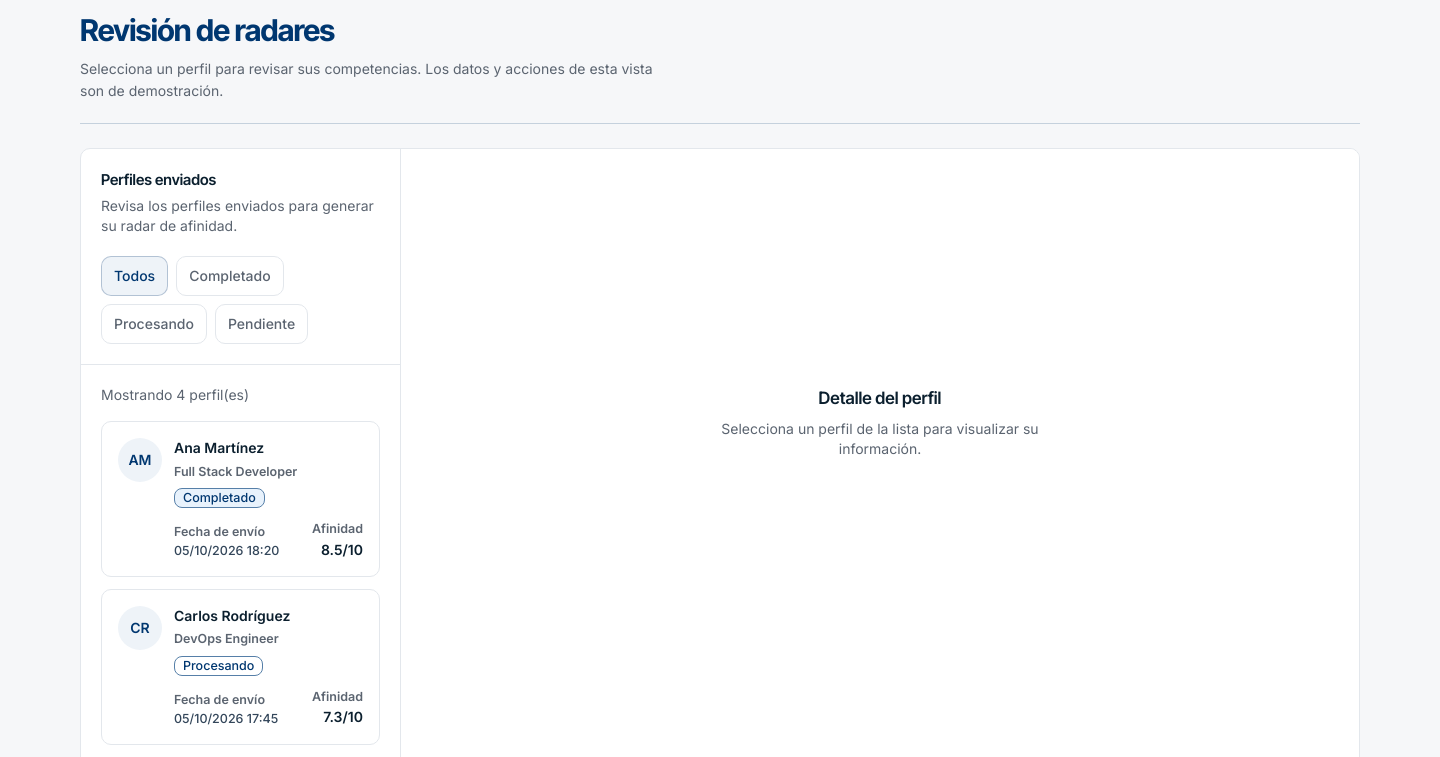
Test case: ColaRevisionPage › filtra los perfiles completados
The width and height of the screenshot is (1440, 757).
Click the button "Completado". click: (230, 276)
box: [176, 256, 284, 296]
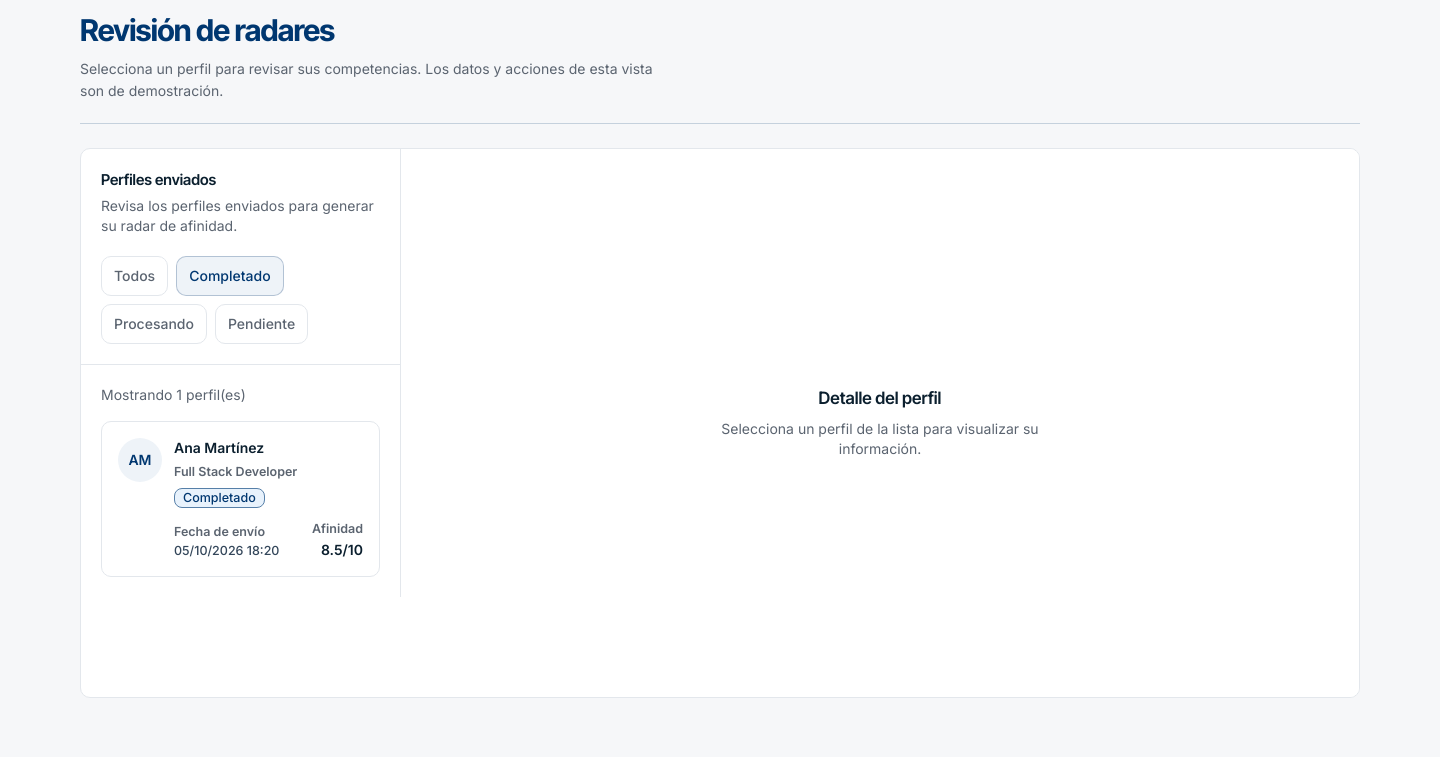
expect the text "Ana Martínez" is shown: met, box [174, 439, 264, 456]
expect the button "Carlos Rodríguez" is gone: met
expect the text "Mostrando 1 perfil(es)" is shown: met, box [101, 386, 246, 403]
